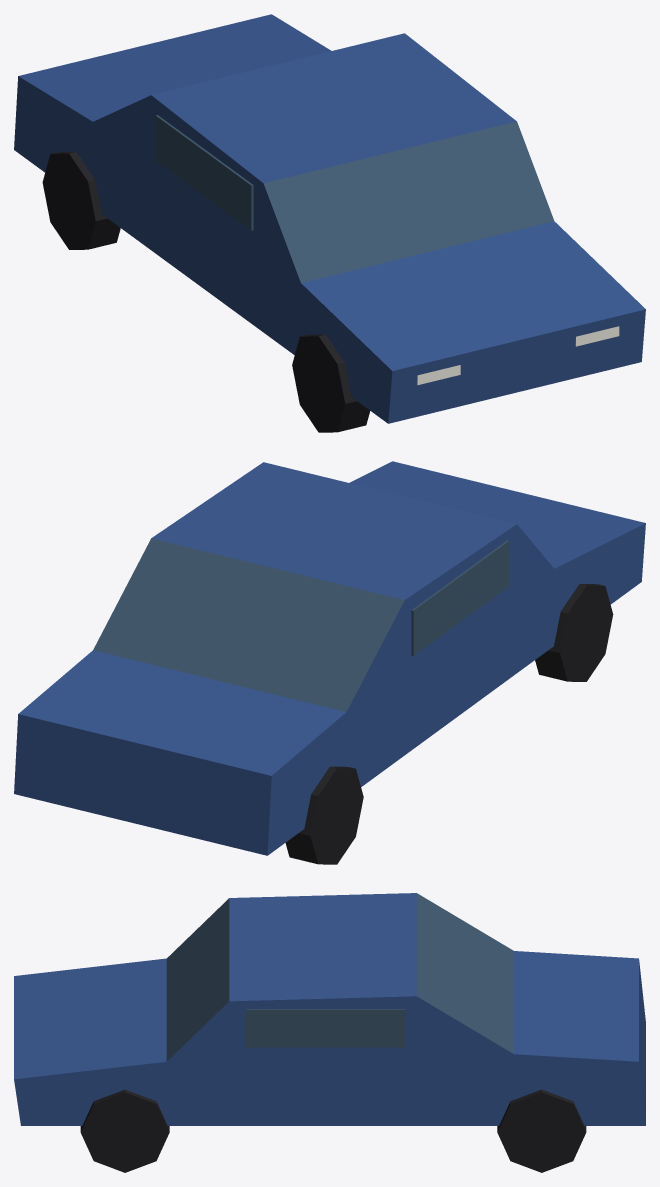
File: carro_rua_5.glb
The picture shows the model from 3 angles, top to bottom: view 1: azimuth 30°, elevation 25°; view 2: azimuth 150°, elevation 25°; view 3: azimuth 270°, elevation 25°; orthographic projection. The views are drawn at different scales.
Visible parts, largest first — view 1: cor, vi, pre, far; view 2: cor, vi, pre; view 3: cor, vi, pre.
Boxes of the visible parts, x1,y1,x2,y2 form: cor: (14,14,645,423); vi: (155,115,554,282); pre: (42,152,369,432); far: (417,326,619,385); cor: (14,461,645,855); vi: (93,538,509,711); pre: (285,584,613,864); cor: (14,893,645,1125); vi: (166,893,513,1061); pre: (80,1089,586,1172).
Size of the model in its own units: 1.86 by 1.38 by 4.55.
